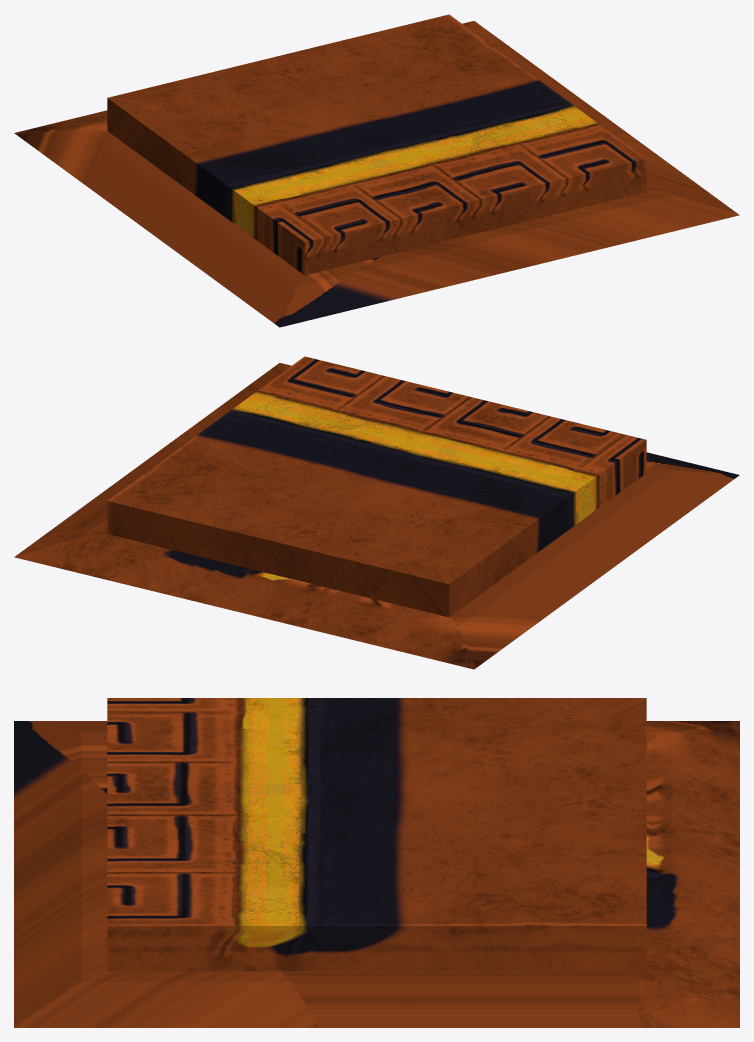
File: FloorButton.fbx
3 renders of one model, top to bottom at view 1: azimuth 30°, elevation 25°; view 2: azimuth 150°, elevation 25°; view 3: azimuth 270°, elevation 25°, orthographic. The views are drawn at different scales.
Parts seen in each view (by area): view 1: FloorButton Low.001, FloorButton Low; view 2: FloorButton Low.001, FloorButton Low; view 3: FloorButton Low.001, FloorButton Low.
Boxes of the visible parts, x1,y1,x2,y2 form: FloorButton Low.001: (107, 14, 646, 275); FloorButton Low: (14, 21, 739, 327); FloorButton Low.001: (107, 356, 646, 617); FloorButton Low: (14, 363, 739, 669); FloorButton Low.001: (107, 698, 646, 971); FloorButton Low: (14, 721, 739, 1027).
Size of the model in its own units: 107 by 11.5 by 107.
